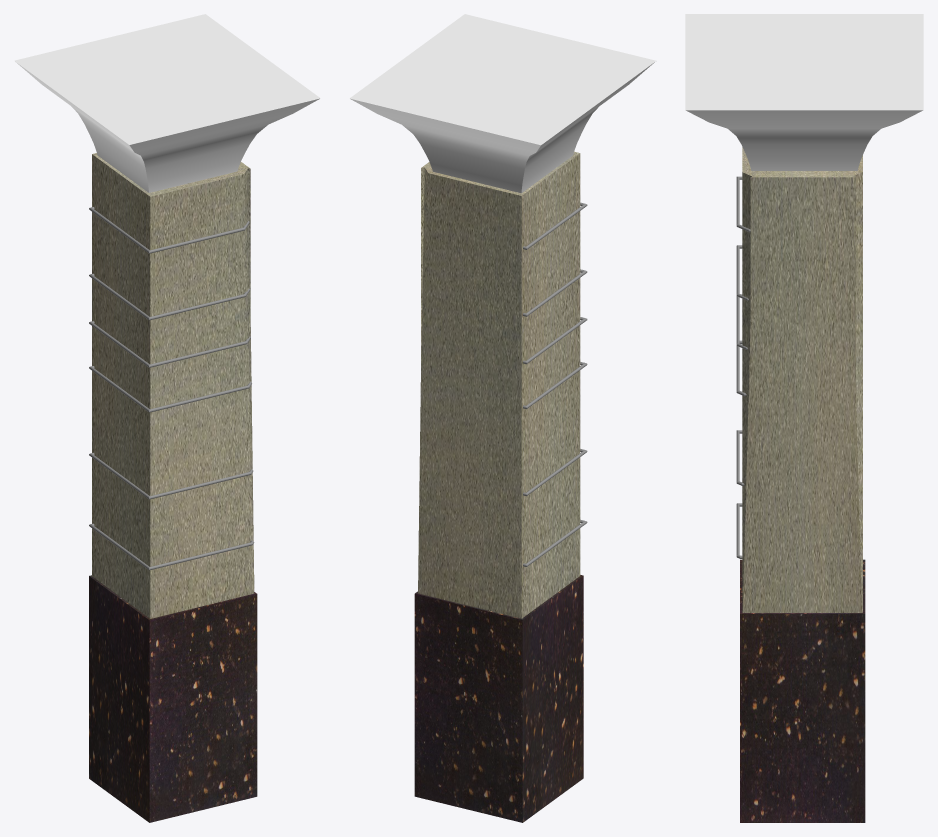
Rendered from lampara2.obj.
3 views of the same model, side by side, from view 1: azimuth 30°, elevation 25°; view 2: azimuth 150°, elevation 25°; view 3: azimuth 270°, elevation 25° (orthographic). The views are drawn at different scales.
Visible parts, largest first — view 1: Box020, Object, Object002, Line041, Line040, Line039, Line038, Line037, Line042; view 2: Box020, Object, Object002; view 3: Box020, Object002, Object.
Boxes of the visible parts, left/top/right/bottom form: Box020: left=92, top=153, right=254, bottom=618; Object: left=89, top=575, right=257, bottom=822; Object002: left=14, top=14, right=320, bottom=192; Line041: left=89, top=523, right=254, bottom=570; Line040: left=89, top=452, right=253, bottom=499; Line039: left=89, top=366, right=251, bottom=412; Line038: left=89, top=321, right=250, bottom=367; Line037: left=89, top=273, right=250, bottom=320; Line042: left=89, top=207, right=249, bottom=253; Box020: left=418, top=151, right=580, bottom=618; Object: left=414, top=575, right=583, bottom=822; Object002: left=349, top=14, right=656, bottom=193; Box020: left=742, top=147, right=862, bottom=612; Object002: left=685, top=14, right=923, bottom=170; Object: left=740, top=559, right=865, bottom=822.
Bounding box in the file's own units: 5.81 × 20.56 × 6.06.
